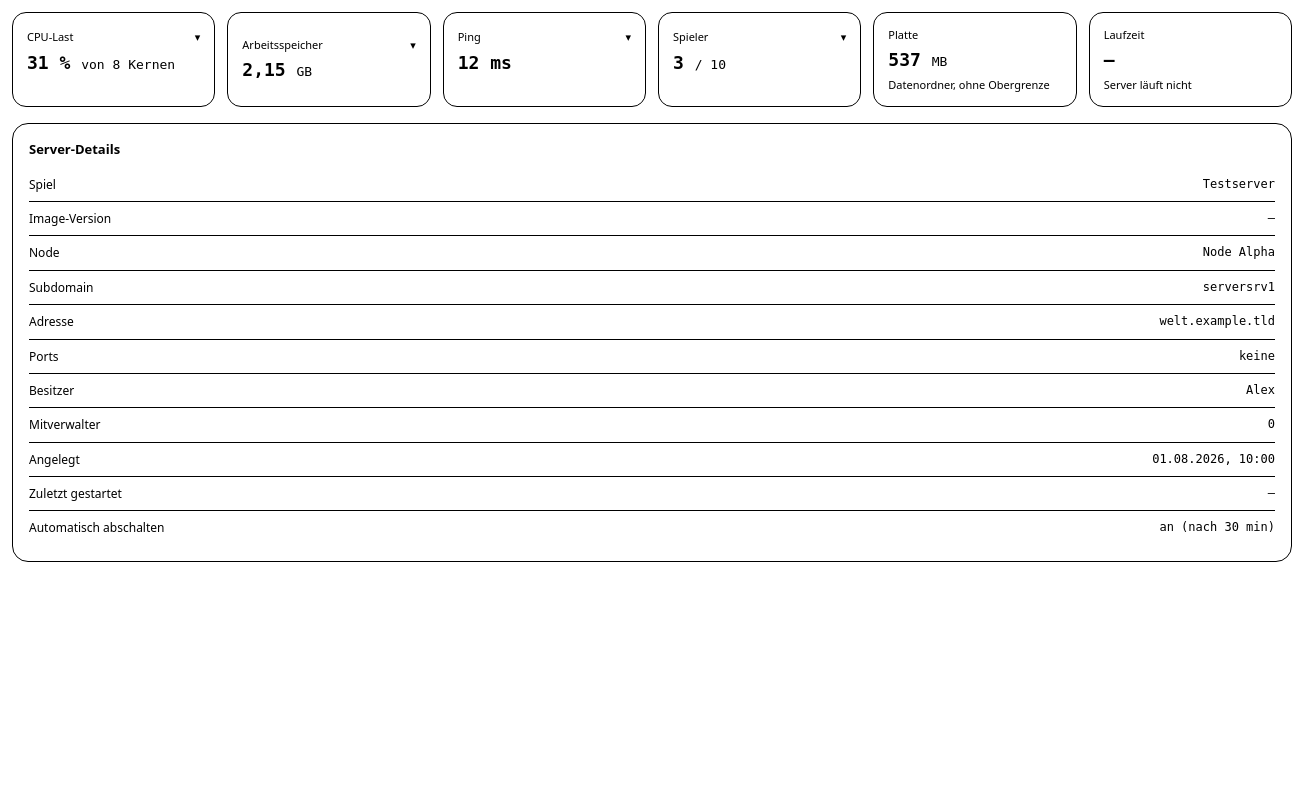
OverviewTab – Kacheln im hafenmeister-Stil › tauscht den Verlauf, statt mehrere offen zu halten
This screenshot has width=1292, height=812.
Click the button "CPU-Last ▾ 31 % von 8 Kernen" at (114, 60), box [12,12,215,107]
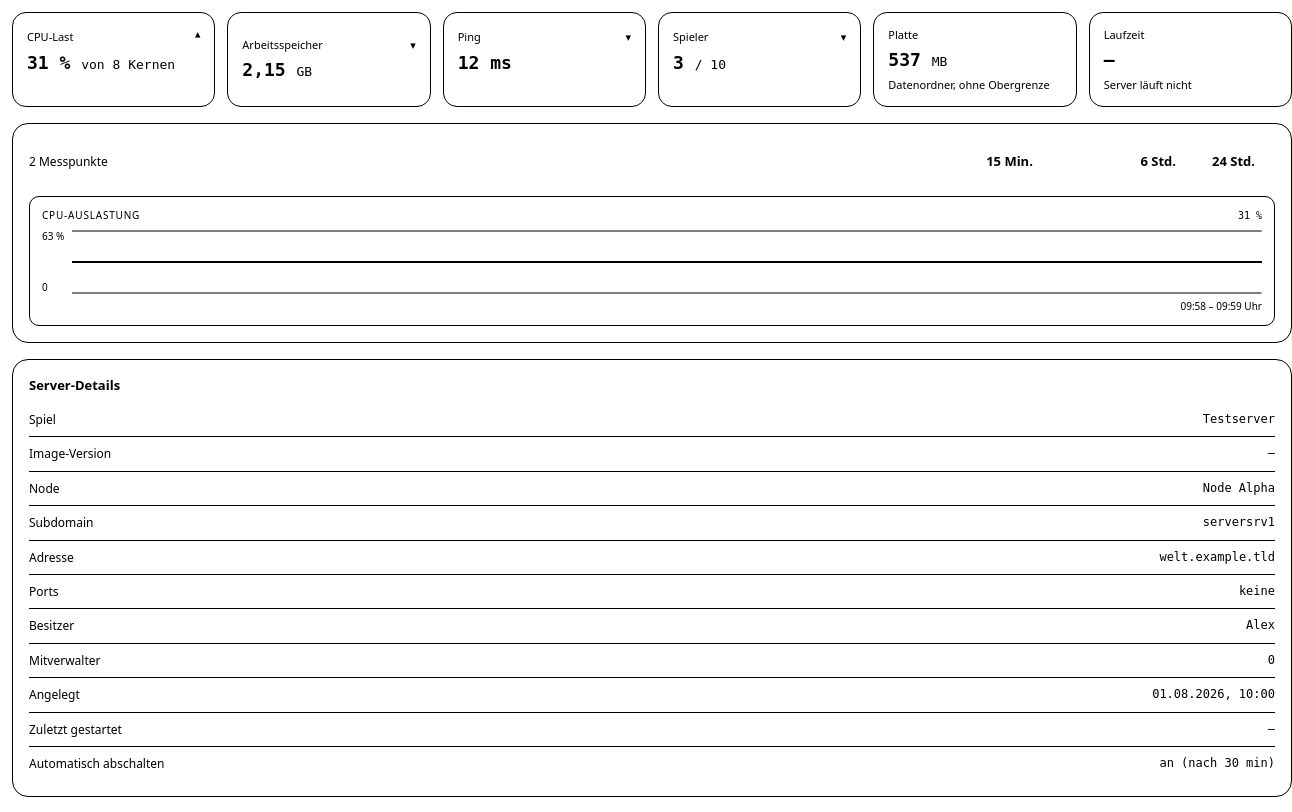
Expected: the text "CPU-Auslastung" is shown, [42,209,140,222]
Click the button "Arbeitsspeicher ▾ 2,15 GB" at (329, 60), box [227,12,431,107]
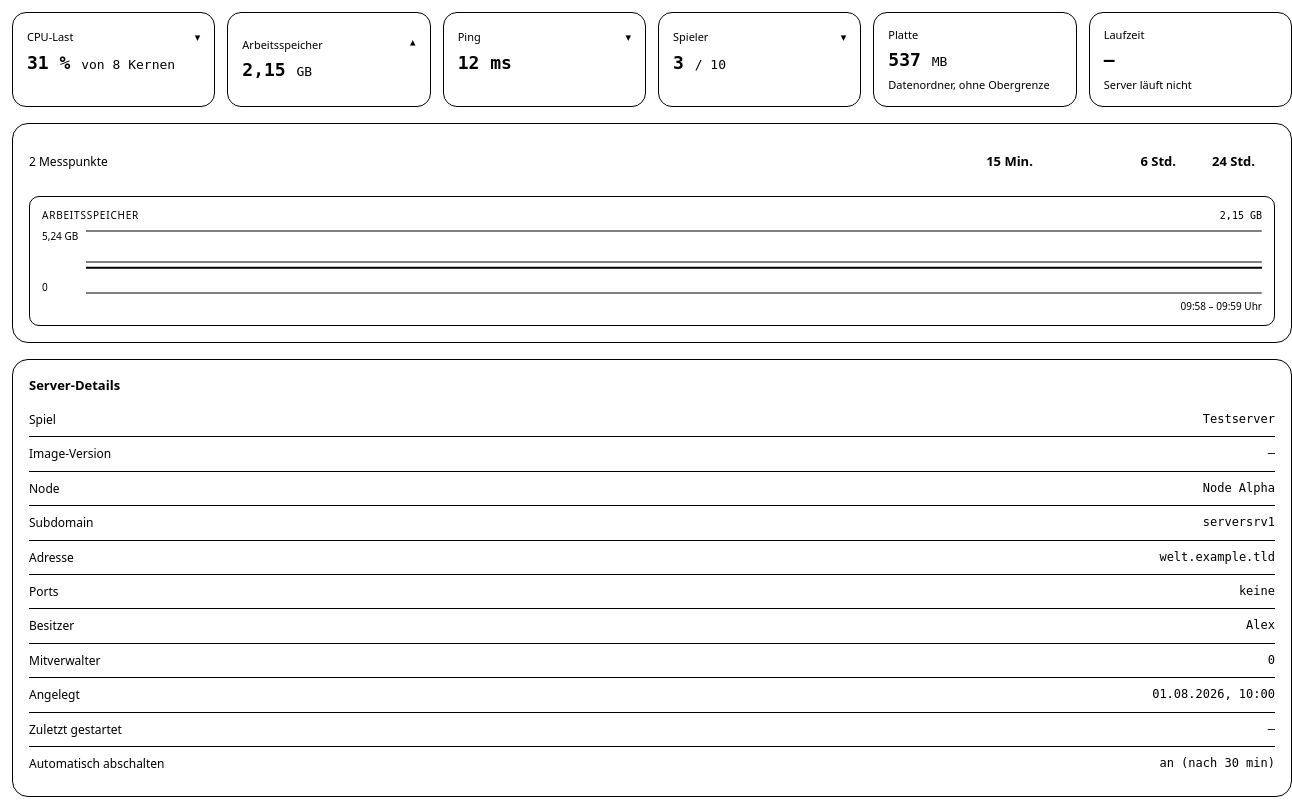
Expected: the text "Arbeitsspeicher" below "2 Messpunkte" is shown, [42,208,139,222]
Expected: the text "CPU-Auslastung" is gone
